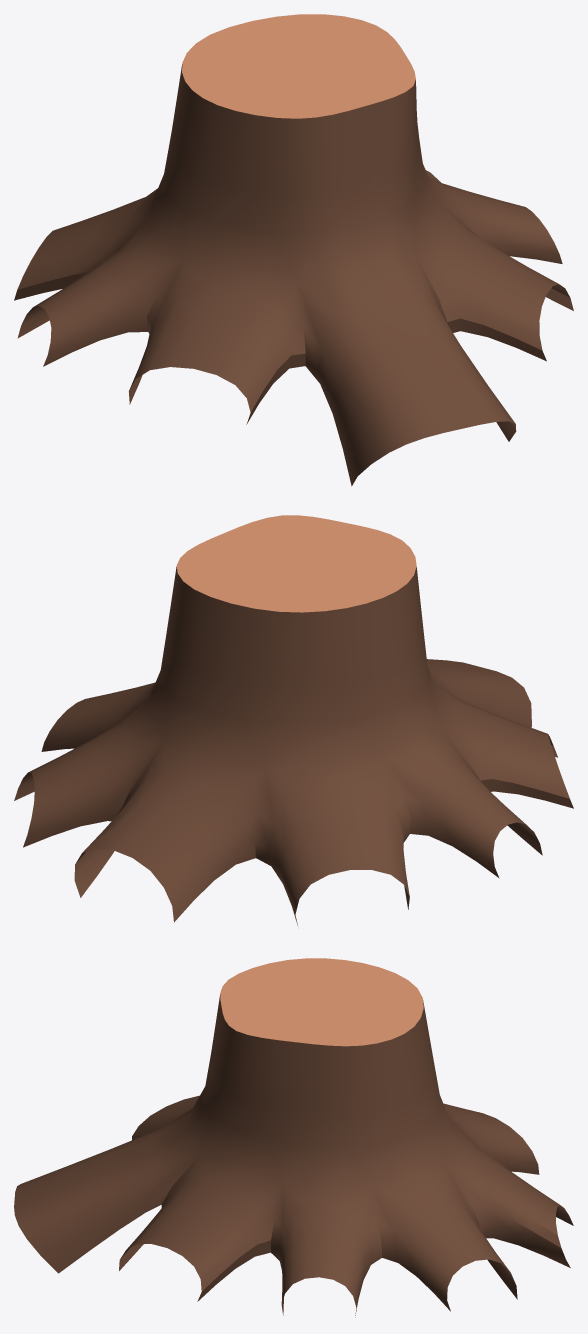
File: Baumstamm.fbx
3 views of the same model, one above another, from view 1: azimuth 30°, elevation 25°; view 2: azimuth 150°, elevation 25°; view 3: azimuth 270°, elevation 25° (orthographic). The views are drawn at different scales.
Parts seen in each view (by area): view 1: baumstamm mit uvs; view 2: baumstamm mit uvs; view 3: baumstamm mit uvs.
Part boxes in pixels (left/top/right/bottom): baumstamm mit uvs: left=14, top=14, right=573, bottom=486; baumstamm mit uvs: left=14, top=515, right=573, bottom=925; baumstamm mit uvs: left=14, top=958, right=573, bottom=1317.
Size of the model in its own units: 35919 by 20390 by 39579.
